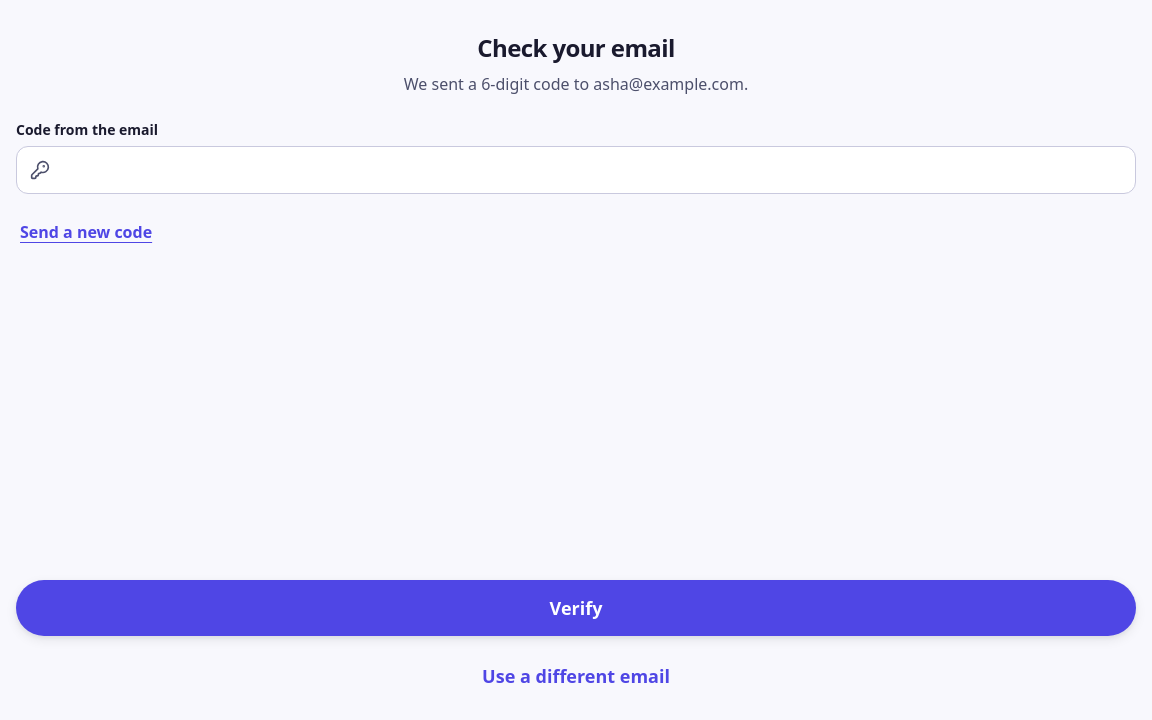
Test: VerifyEmailPage › stays on the code step, and says so, when the server could not be told of the sign-out
Click the button "Use a different email" at {"x": 576, "y": 676}, box [16,648,1136,704]
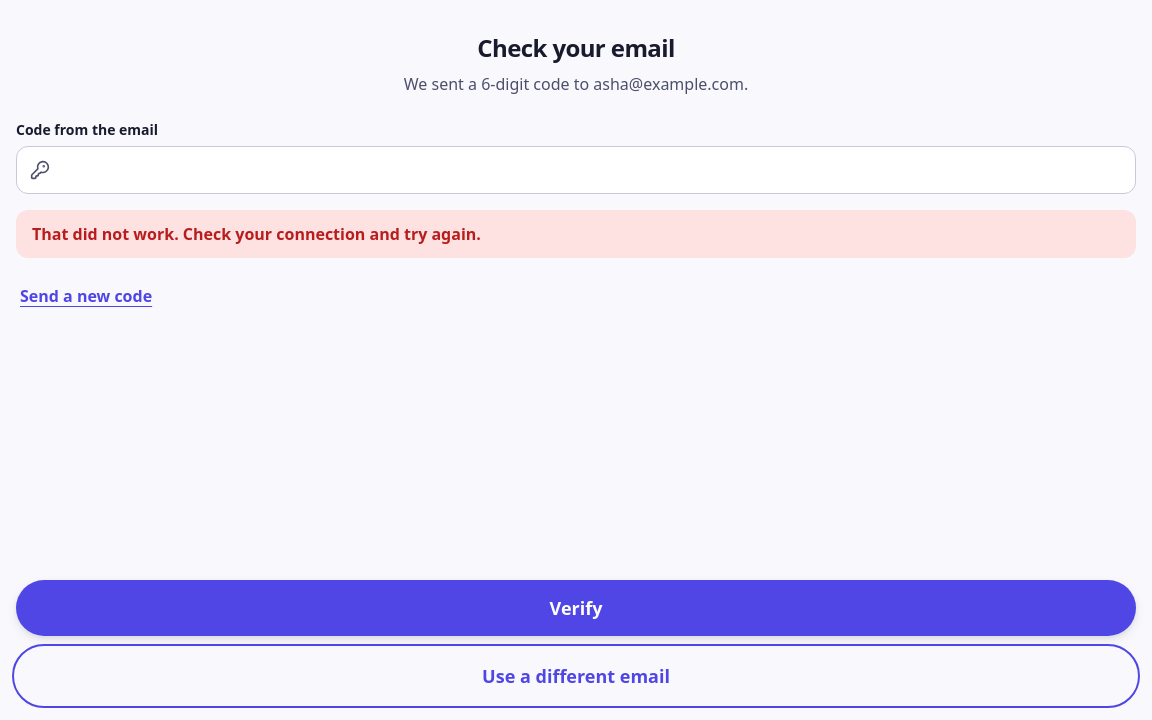
Expected: the field labelled "Code from the email" is shown, [16,146,1136,194]
Result: the message shows "That did not work." at [32,223,481,245]
